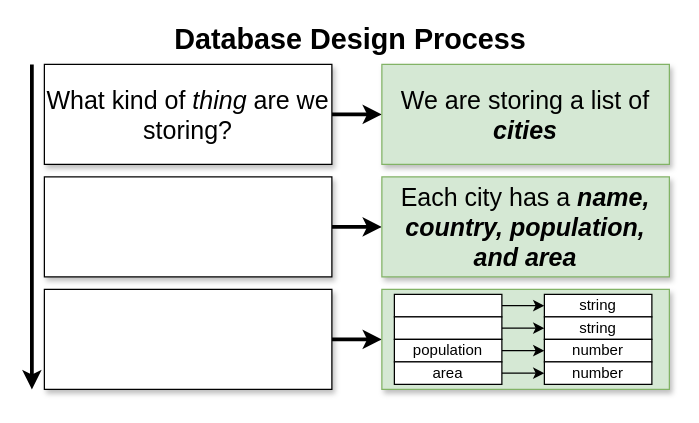
The diagram is 699 pixels wide and 423 high, and some of its shapes have lost their labels. Here are the shapes that lost their labels. From the top down, the centre of each, then its label:
(188,228): What properties does this thing have?
(447,305): name
(188,340): What type of data does each of those properties contain?
(447,327): country
